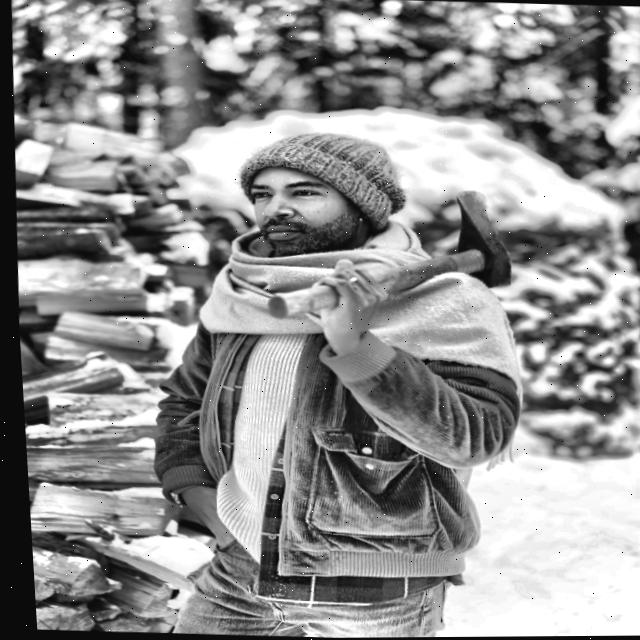kapak: (239, 154, 555, 344)
